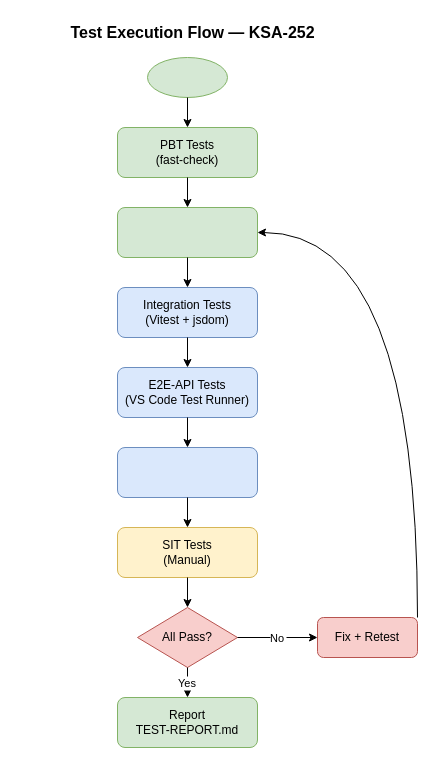
The diagram is 435 pixels wide and 765 high, and some of its shapes have lost their labels. Each missing label, with the centre of its shape:
"E2E-UI Tests (Playwright)" goes at point (187, 472).
"Start" goes at point (187, 77).
"Unit Tests (Vitest)" goes at point (187, 232).
